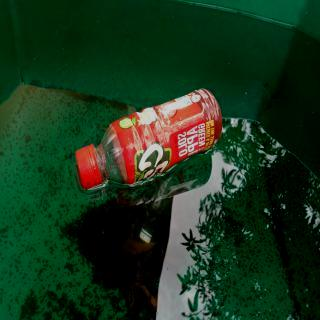bottle: (74, 85, 223, 192)
